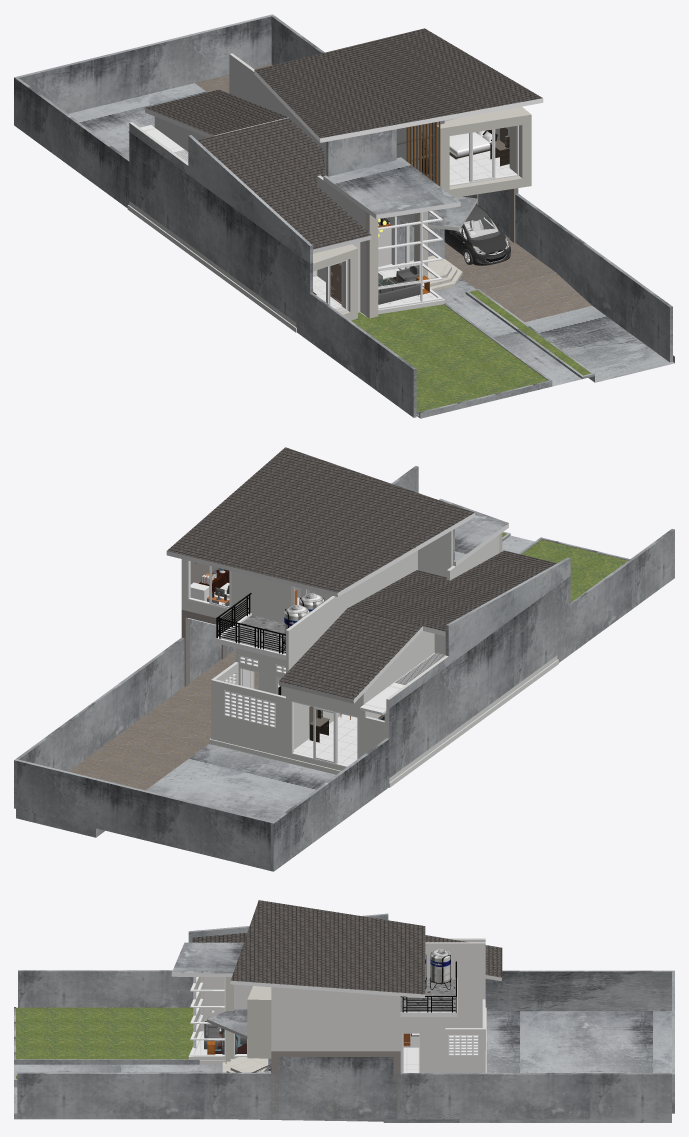
The model's file is building_glb.glb.
3 views of the same model, one above another, from view 1: azimuth 30°, elevation 25°; view 2: azimuth 150°, elevation 25°; view 3: azimuth 270°, elevation 25° (orthographic). The views are drawn at different scales.
Parts seen in each view (by area): view 1: ASAutoSave_AutoSave_AutoSave_interior+kak+mar; view 2: ASAutoSave_AutoSave_AutoSave_interior+kak+mar; view 3: ASAutoSave_AutoSave_AutoSave_interior+kak+mar.
Boxes of the visible parts, x1,y1,x2,y2 form: ASAutoSave_AutoSave_AutoSave_interior+kak+mar: (14, 14, 674, 418); ASAutoSave_AutoSave_AutoSave_interior+kak+mar: (14, 447, 674, 871); ASAutoSave_AutoSave_AutoSave_interior+kak+mar: (14, 900, 674, 1122).
Size of what is drawn, in the model's own units: 114 by 72.84 by 307.
161 materials, 52 textured.
